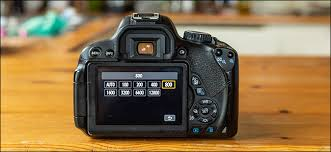camera: (74, 17, 238, 138)
